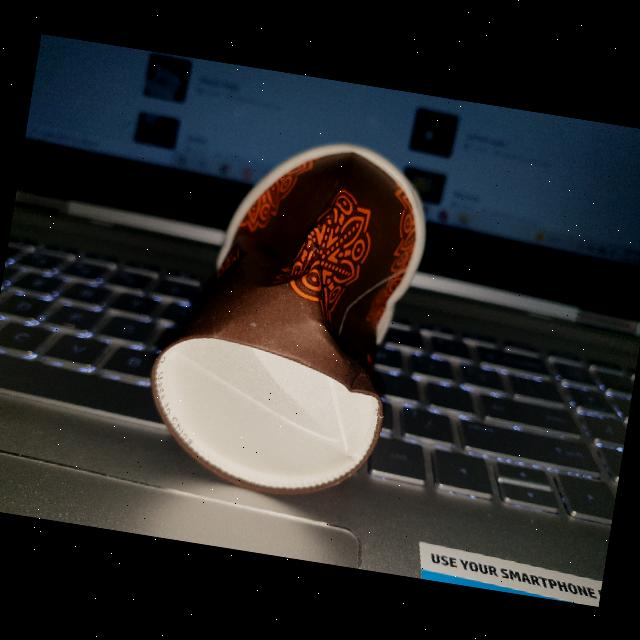trash: (121, 106, 454, 520)
